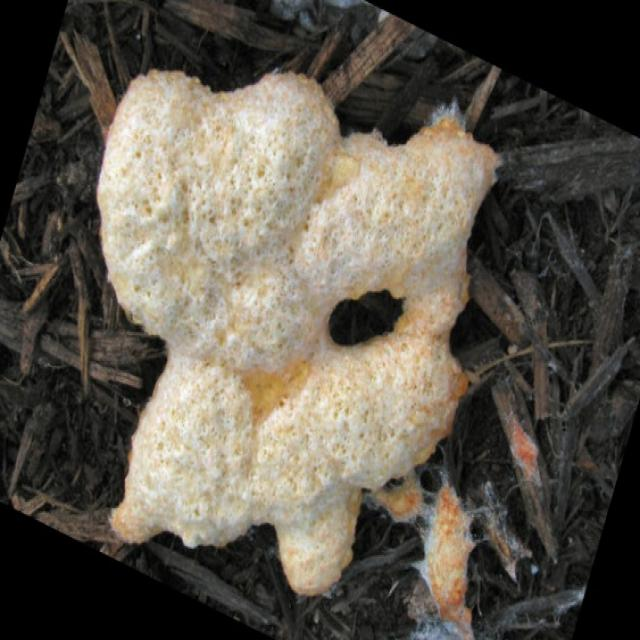Dog_vomit_slime_mold: (59, 42, 514, 599)
